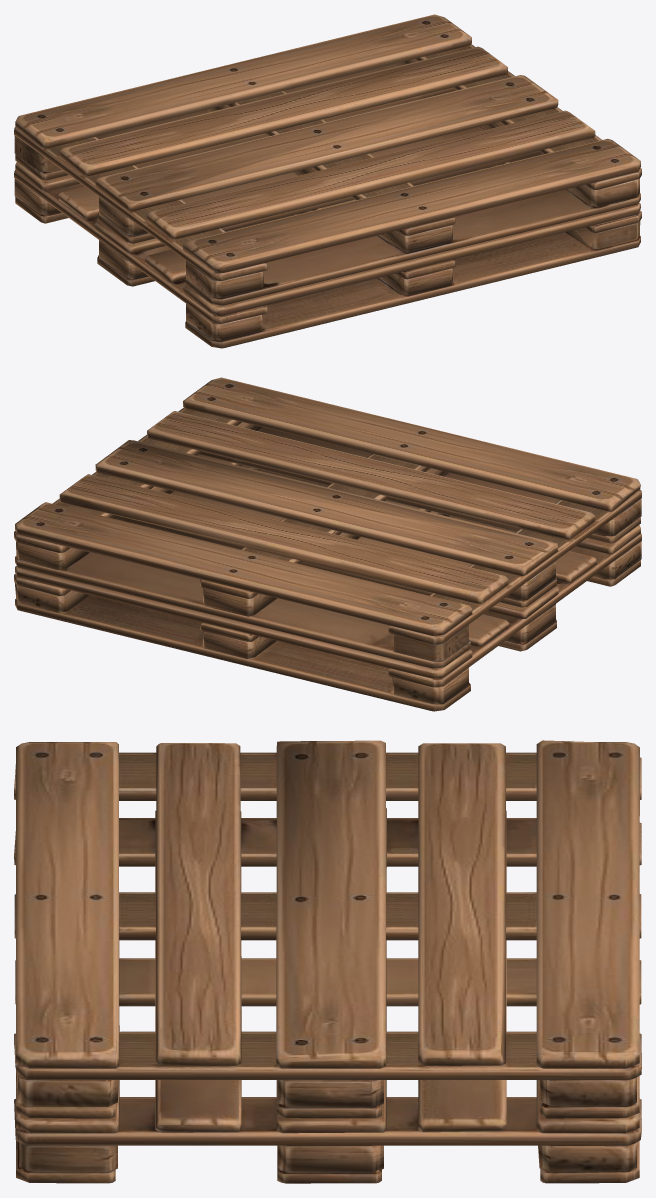
Rendered from pallet.glb.
3 renders of one model, top to bottom at view 1: azimuth 30°, elevation 25°; view 2: azimuth 150°, elevation 25°; view 3: azimuth 270°, elevation 25°, orthographic. The views are drawn at different scales.
Visible parts, largest first — view 1: pallet; view 2: pallet; view 3: pallet.
Part boxes in pixels (x1=…): pallet: x1=14, y1=14, x2=641, y2=348; pallet: x1=14, y1=377, x2=641, y2=711; pallet: x1=14, y1=740, x2=641, y2=1183.
Bounding box in the file's own units: 0.95 × 0.179 × 0.7885.
Materials: 1 (1 with a texture image).
